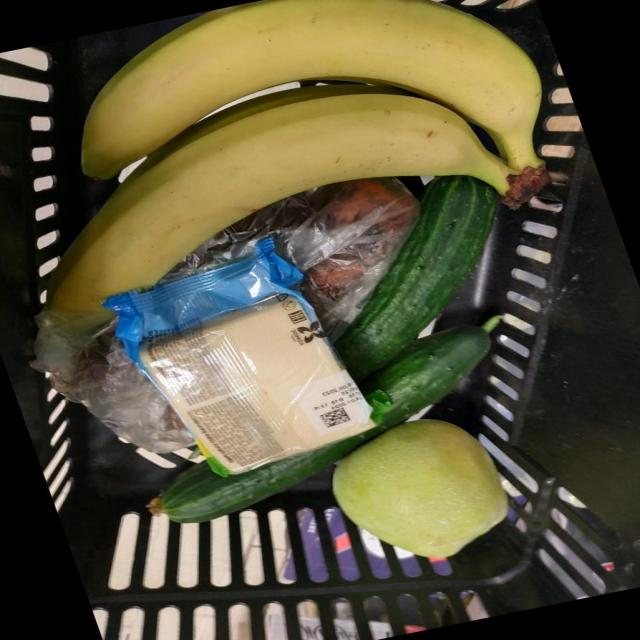Apple: (332, 420, 509, 558)
Banana: (47, 93, 517, 314), (82, 0, 541, 179)
Carrot: (307, 178, 420, 300)
Cheese: (140, 294, 376, 474)
Cucumber: (153, 326, 491, 523), (334, 176, 498, 381)
